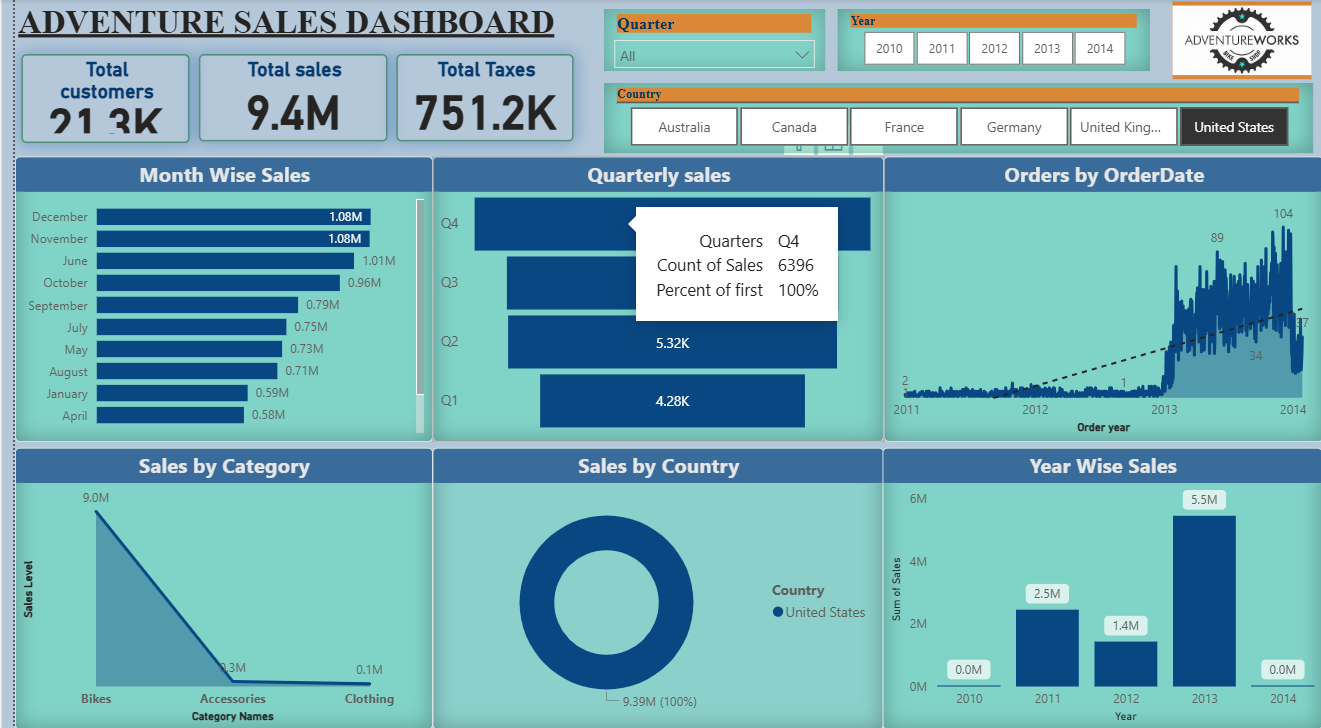

The dashboard page shown, as its layout file describes it:
{"tool":"powerbi","page":{"name":"Page 1","canvas":[1280,720],"ordinal":0},"visuals":[{"type":"donutChart","title":"Sales by Country","fields":{"Y":["Sum(Adventure work_Nagmani.Sales)"],"Series":["Adventure work_Nagmani.Country"]},"box":[408.4,439,441.4,276.4],"z":0},{"type":"areaChart","title":"Sales by Category","fields":{"Category":["Adventure work_Nagmani.ProductCategoryName"],"Y":["Sum(Adventure work_Nagmani.Sales)"]},"box":[0,439,408.4,276.4],"z":1000},{"type":"card","title":"Total customers","fields":{"Values":["CountNonNull(Adventure work_Nagmani.CustomerKey)"]},"box":[6.1,53.8,165.1,86.8],"z":2000},{"type":"card","title":"Total sales","fields":{"Values":["Sum(Adventure work_Nagmani.Sales)"]},"box":[179.8,53.8,184.6,85.6],"z":3000},{"type":"lineStackedColumnComboChart","title":"Year Wise Sales","fields":{"Category":["Adventure work_Nagmani.OrderDate.Variation.Date Hierarchy.Year"],"Y":["Sum(Adventure work_Nagmani.Sales)"]},"box":[848.6,439,430.4,276.4],"z":4000},{"type":"areaChart","title":"Orders by OrderDate","fields":{"Category":["Adventure work_Nagmani.OrderDate"],"Y":["Sum(Adventure work_Nagmani.OrderQuantity)"]},"box":[849.9,154.1,430.4,278.8],"z":5000},{"type":"clusteredBarChart","title":"Month Wise Sales","fields":{"Category":["Adventure work_Nagmani.Month Name"],"Y":["Sum(Adventure work_Nagmani.Sales)"]},"box":[0,154.1,408.4,278.8],"z":6000},{"type":"funnel","title":"Quarterly sales","fields":{"Y":["CountNonNull(Adventure work_Nagmani.Sales)"],"Category":["Adventure work_Nagmani.Quarters"]},"box":[408.4,154.1,441.4,278.8],"z":7000},{"type":"card","title":"Total Taxes","fields":{"Values":["Sum(Adventure work_Nagmani.TaxAmt)"]},"box":[373,53.8,173.6,85.6],"z":8000},{"type":"textbox","box":[0,0,546.6,50.1],"z":9000},{"type":"slicer","fields":{"Values":["Adventure work_Nagmani.OrderDate.Variation.Date Hierarchy.Year"]},"box":[804.6,9.8,305.7,61.1],"z":10000},{"type":"slicer","fields":{"Values":["Adventure work_Nagmani.Country"]},"box":[576,81.9,693.3,68.5],"z":11000},{"type":"image","box":[1132.3,2.4,135.7,75.8],"z":12000},{"type":"slicer","fields":{"Values":["Adventure work_Nagmani.Quarters"]},"box":[576,9.8,216.4,61.1],"z":13000}]}

Visuals, with their boxes in screenshot pixels (x1, y1, x2, y2), scaled from the page's 1280x720 canvas onto the 1321x728 screenshot:
"Sales by Country" donutChart: x1=421 y1=444 x2=877 y2=723
"Sales by Category" areaChart: x1=0 y1=444 x2=421 y2=723
"Total customers" card: x1=6 y1=54 x2=177 y2=142
"Total sales" card: x1=186 y1=54 x2=376 y2=141
"Year Wise Sales" lineStackedColumnComboChart: x1=876 y1=444 x2=1320 y2=723
"Orders by OrderDate" areaChart: x1=877 y1=156 x2=1320 y2=438
"Month Wise Sales" clusteredBarChart: x1=0 y1=156 x2=421 y2=438
"Quarterly sales" funnel: x1=421 y1=156 x2=877 y2=438
"Total Taxes" card: x1=385 y1=54 x2=564 y2=141
textbox: x1=0 y1=0 x2=564 y2=51
slicer - Adventure work_Nagmani.OrderDate.Variation.Date Hierarchy.Year: x1=830 y1=10 x2=1146 y2=72
slicer - Adventure work_Nagmani.Country: x1=594 y1=83 x2=1310 y2=152
image: x1=1169 y1=2 x2=1309 y2=79
slicer - Adventure work_Nagmani.Quarters: x1=594 y1=10 x2=818 y2=72
